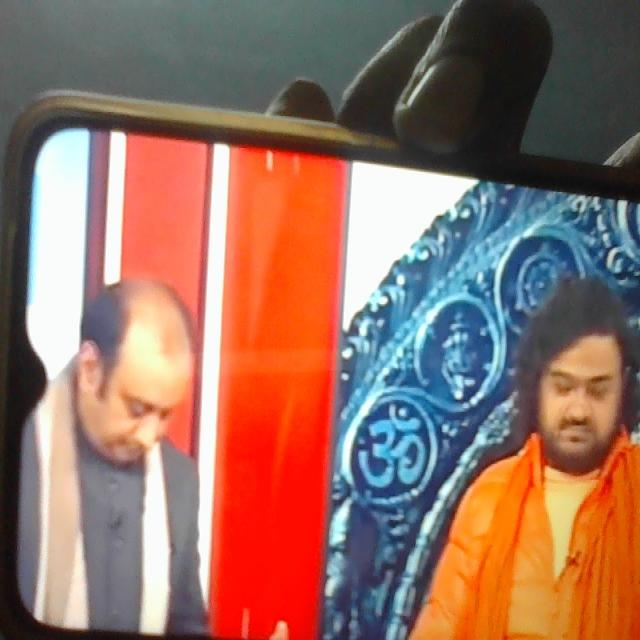fake: (518, 251, 640, 484)
